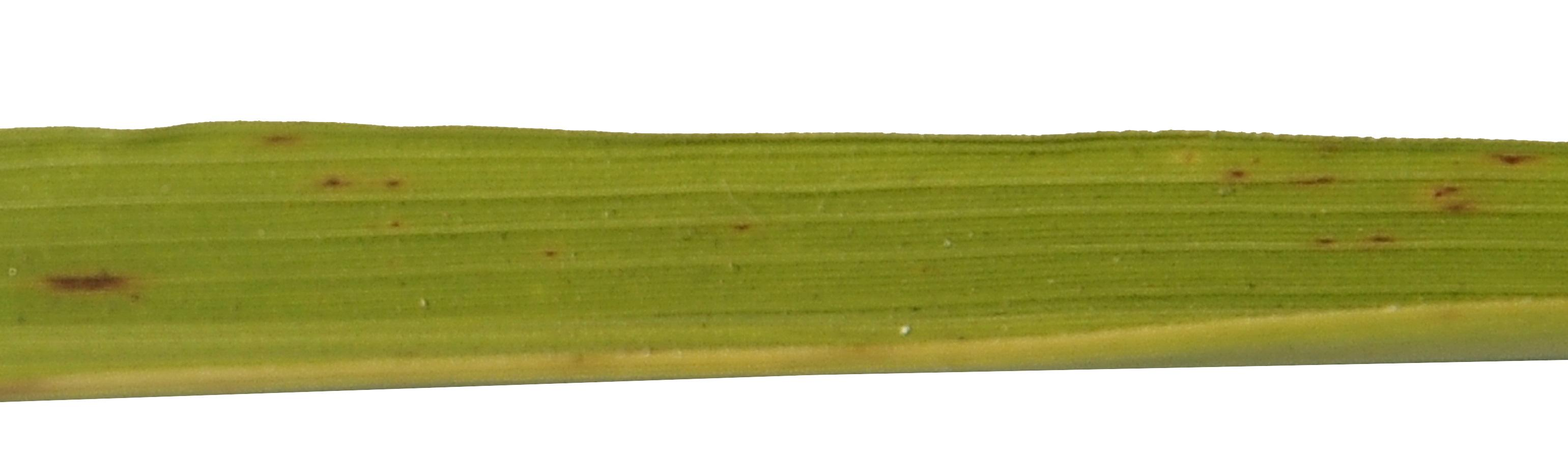Brown spot: (36, 256, 129, 298)
